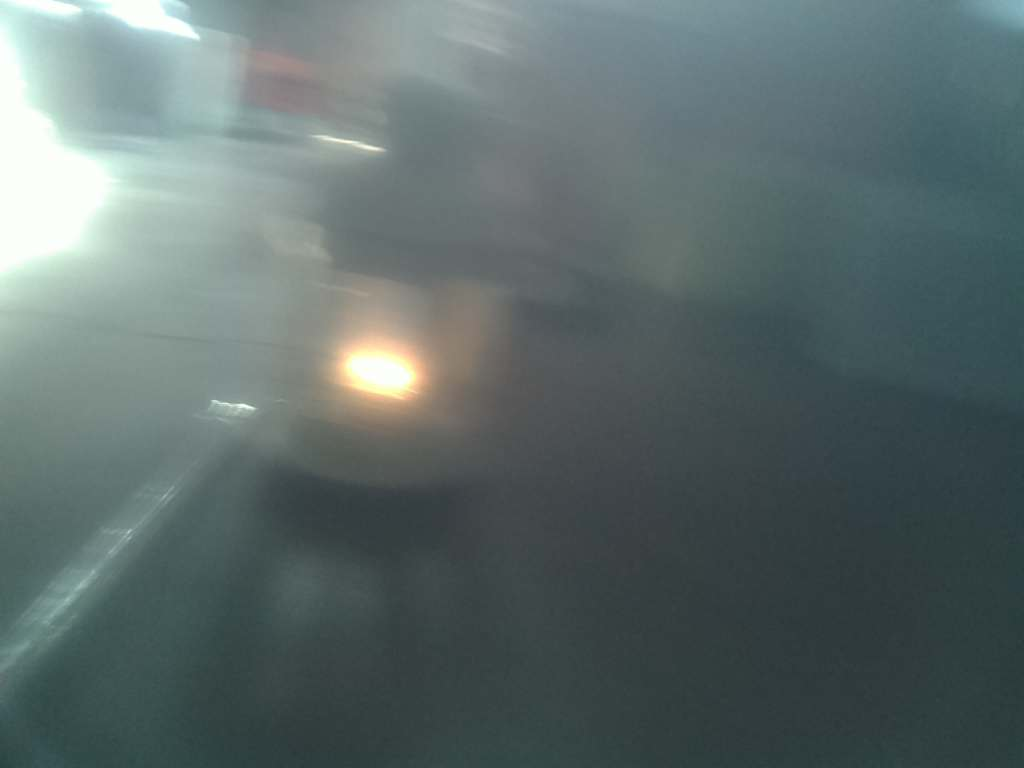fire: (322, 325, 441, 427)
